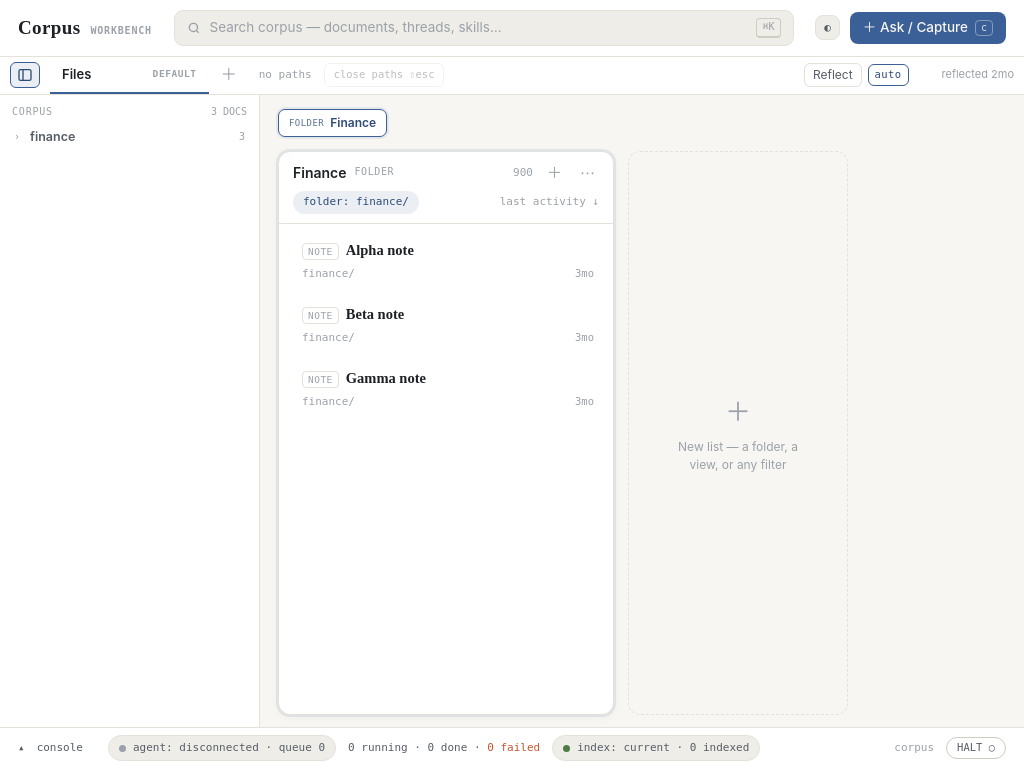
Test: the tree › says so when the listing reached its bound rather than ending quietly
What coordinates should you click on to do the following:
click the list item "› finance 3"
I would click on:
 (130, 137)
Its box is [6, 125, 253, 149].
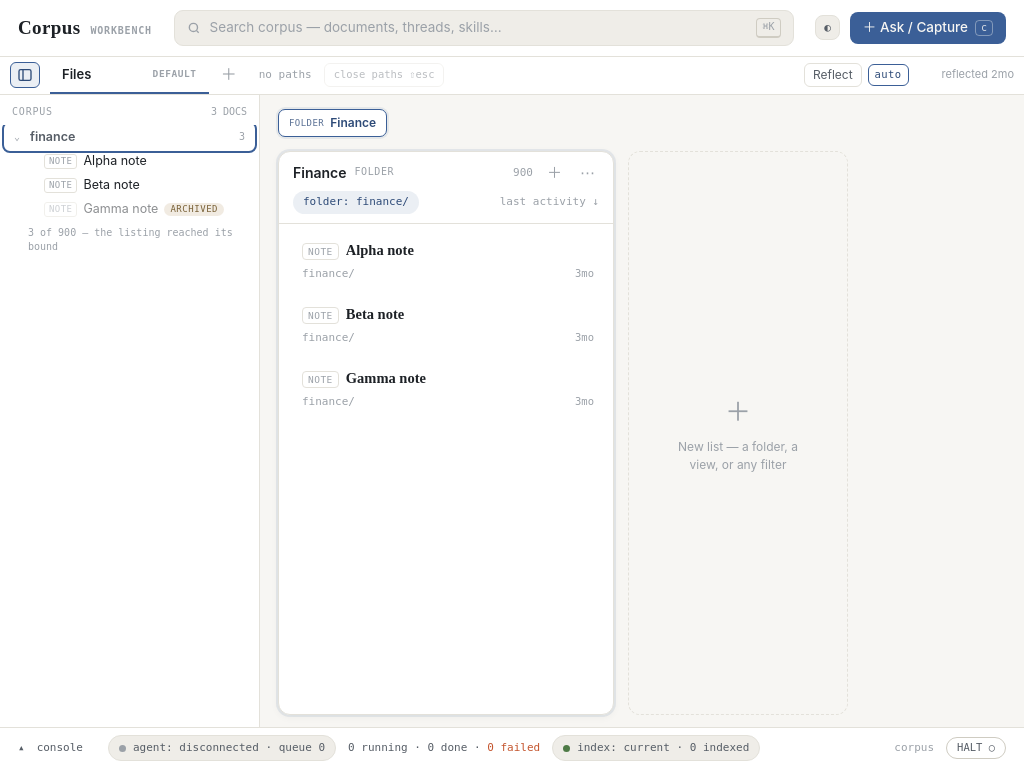
Expected: the text "3 of 900 — the listing reached its bound" is shown, [28, 227, 233, 252]
